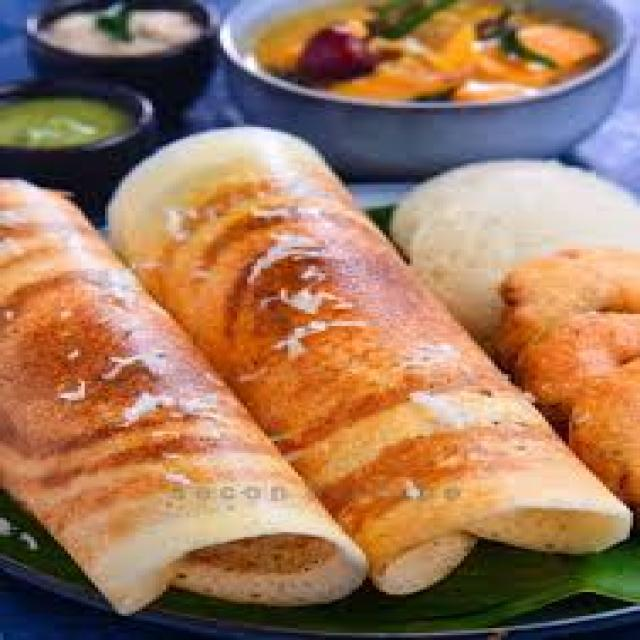chutney: (34, 0, 203, 60)
dosa: (102, 122, 606, 582), (0, 172, 366, 632)
idli: (413, 160, 637, 328)
